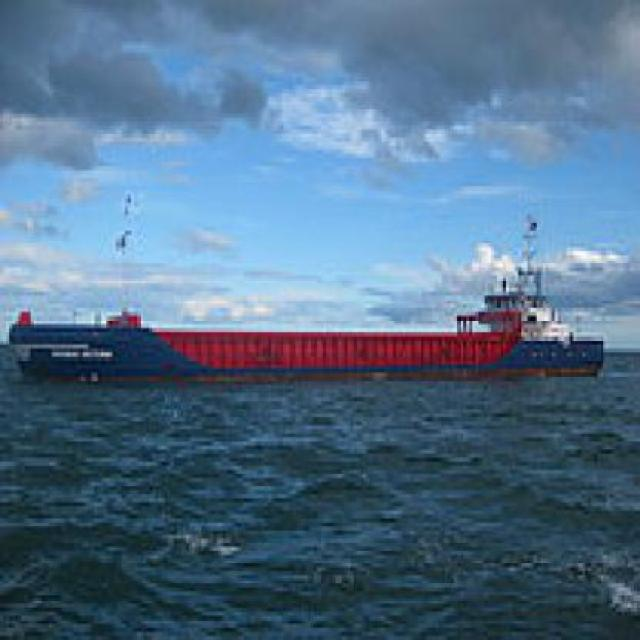container: (4, 289, 616, 390)
